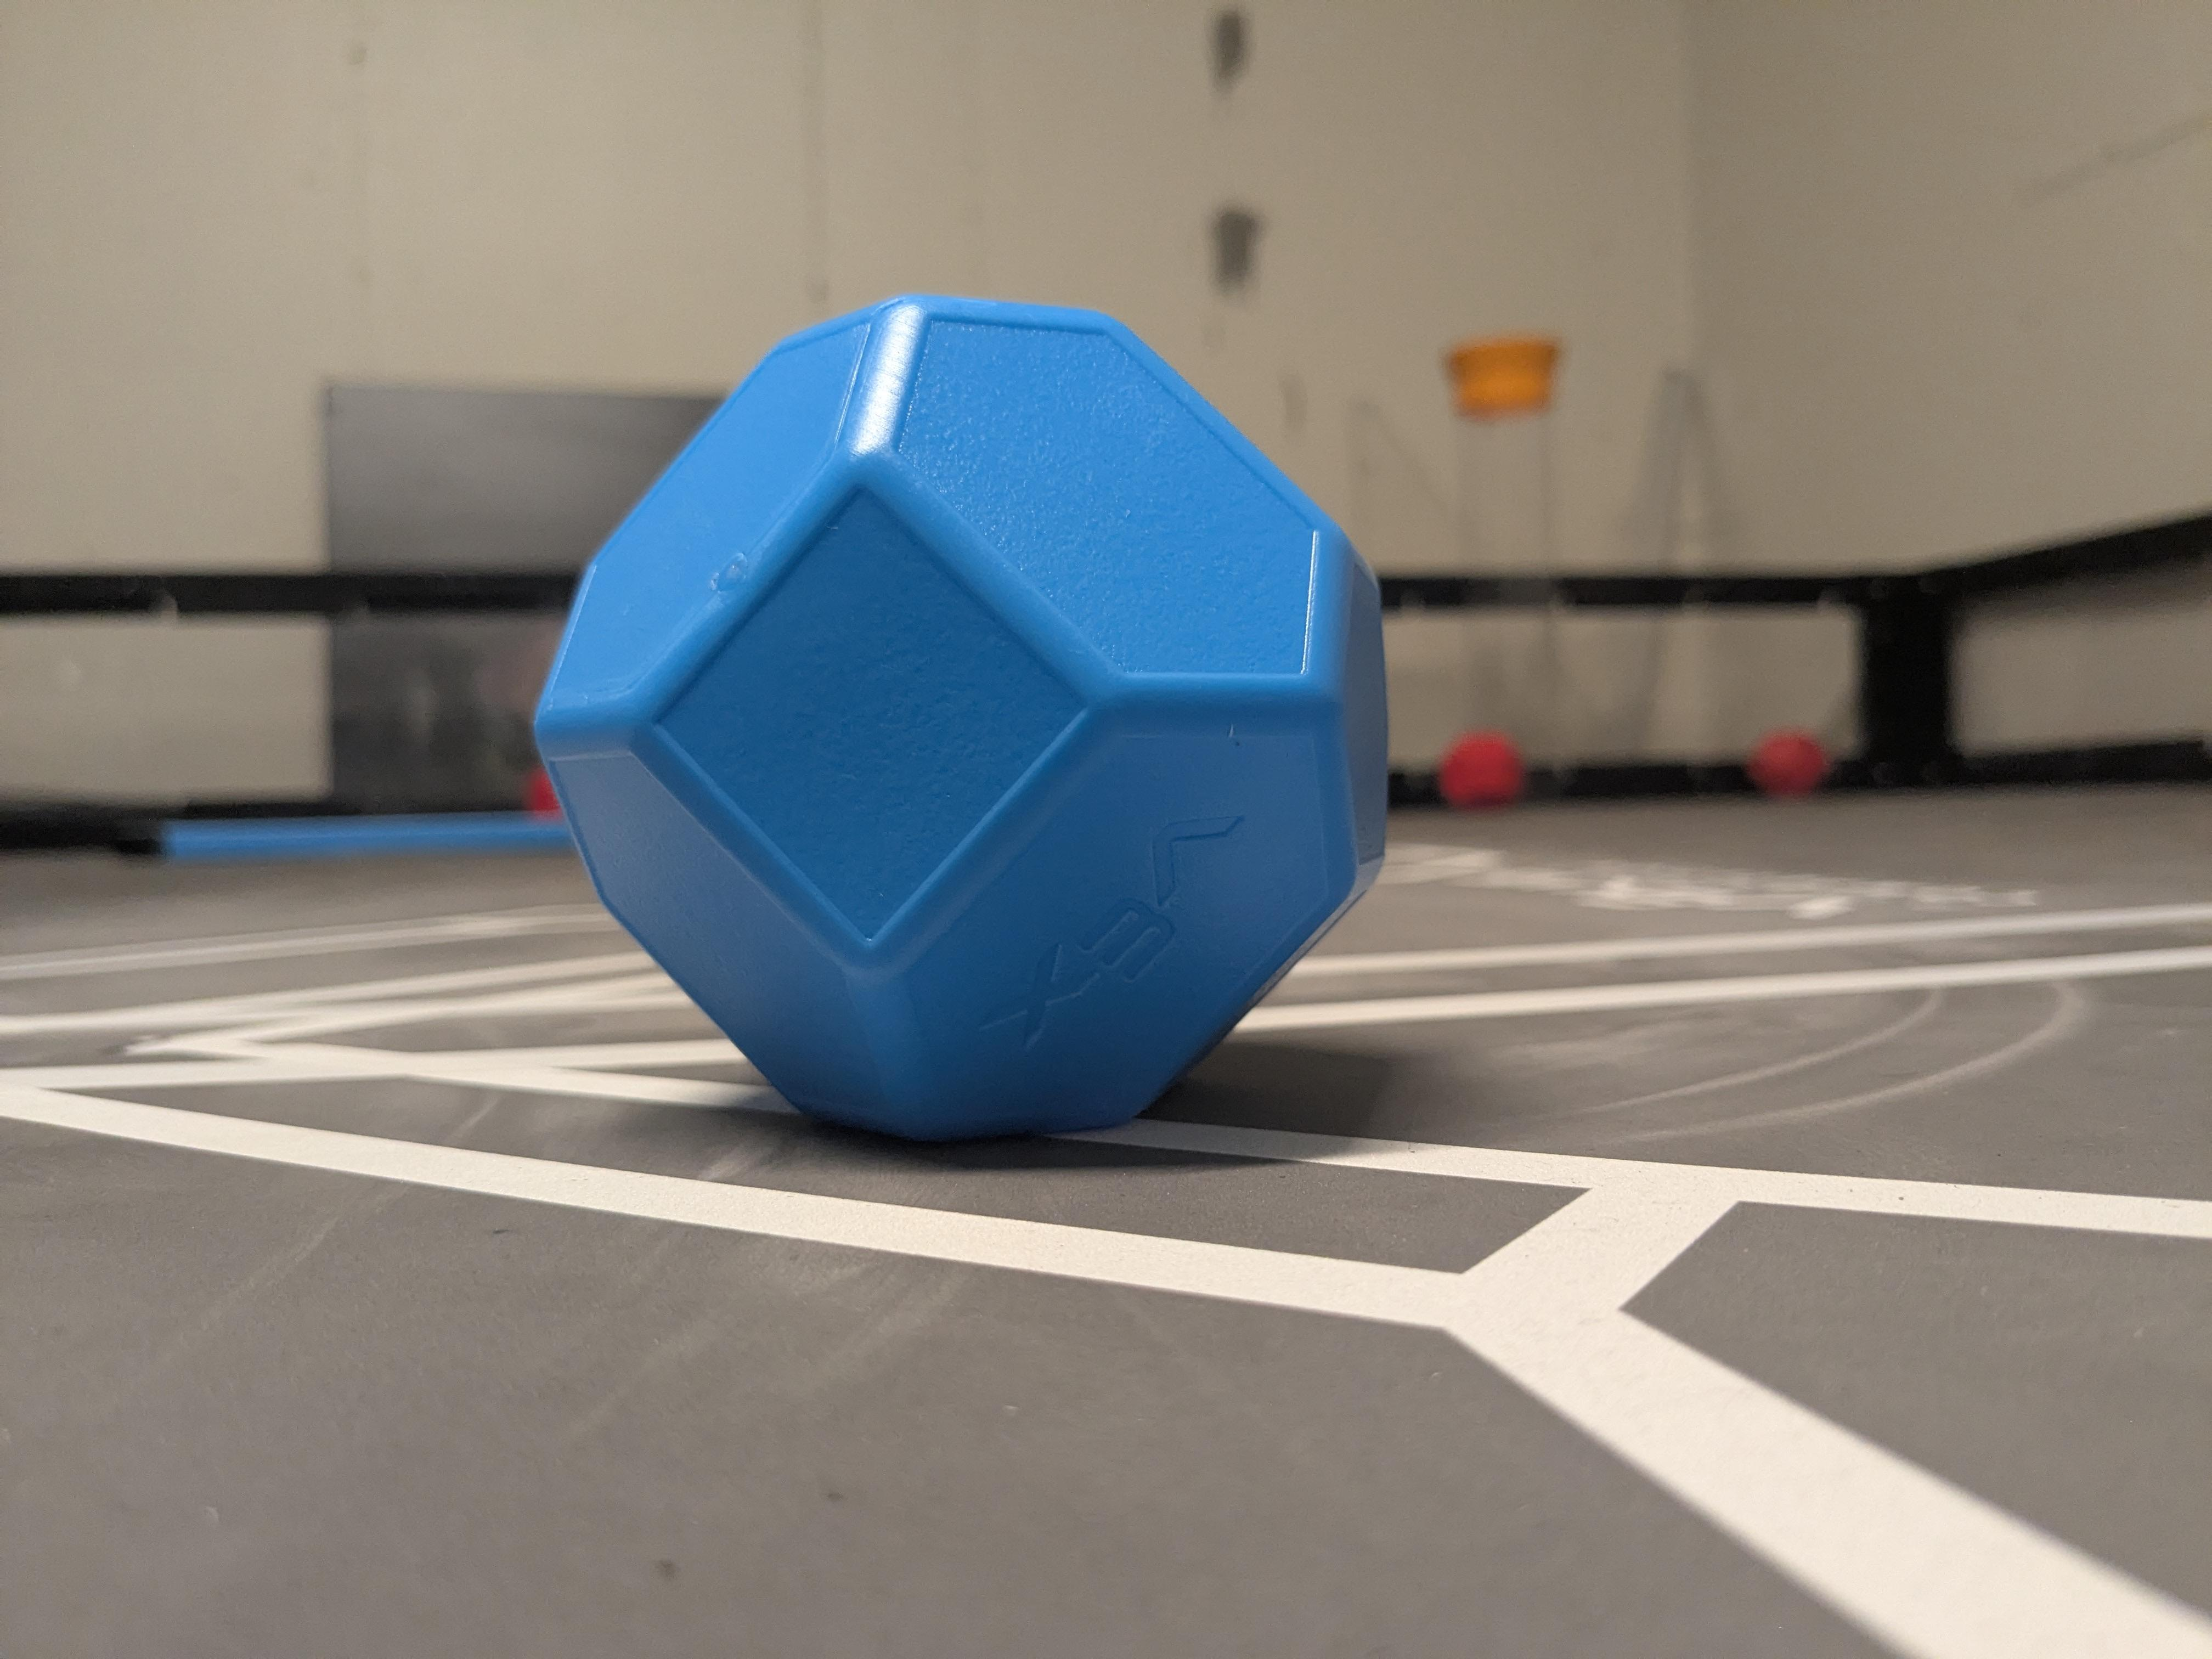Vex-Pieces-BLUE: (535, 296, 1388, 1140)
